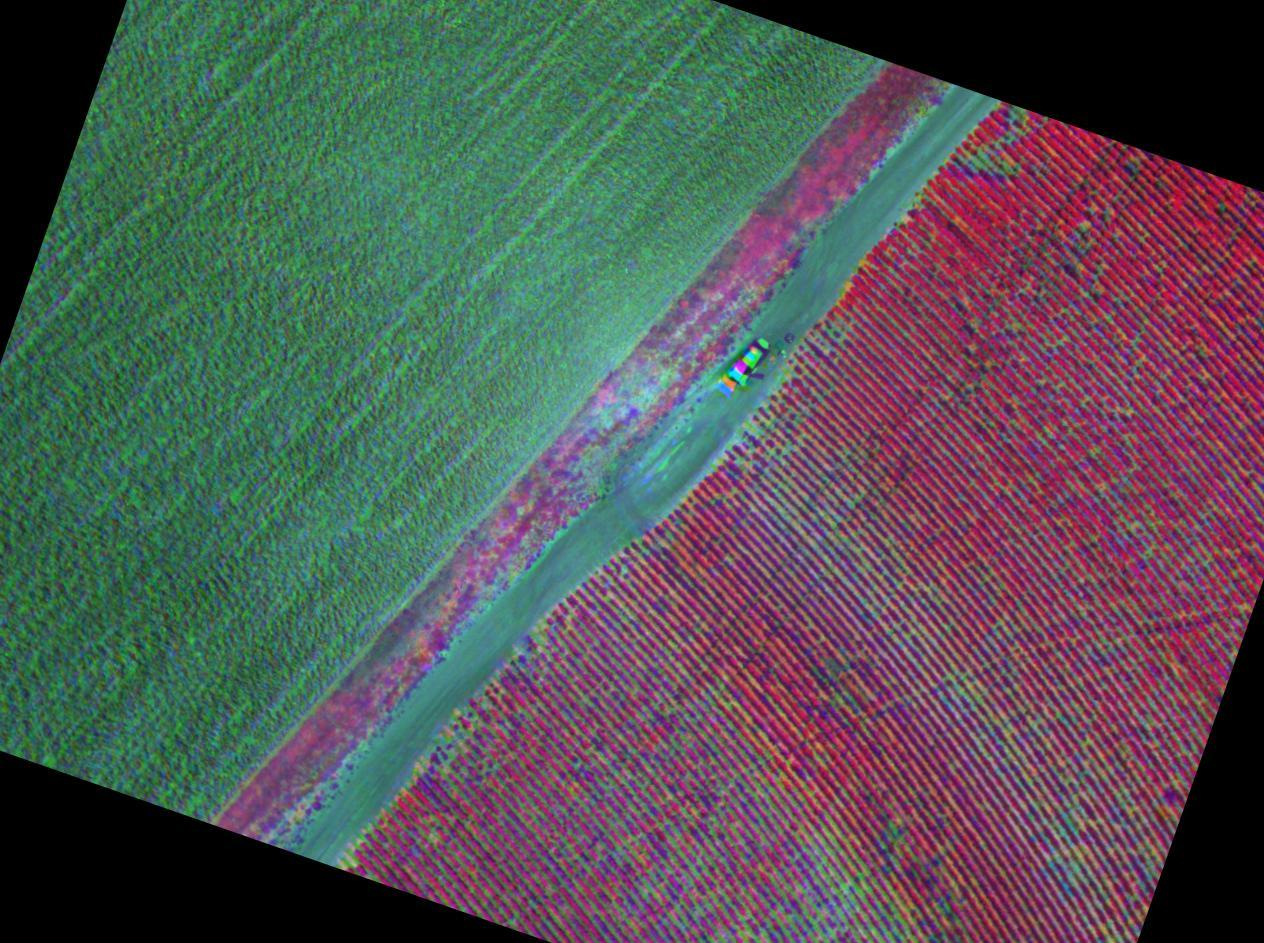dc: (1019, 108, 1025, 114), (979, 154, 985, 159), (441, 773, 447, 778), (646, 884, 652, 889), (842, 885, 847, 891), (819, 916, 823, 920), (747, 928, 751, 932), (787, 761, 790, 764)
